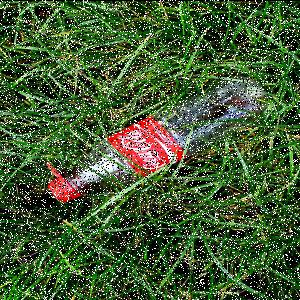Plastic-bottle: (44, 76, 270, 206)
